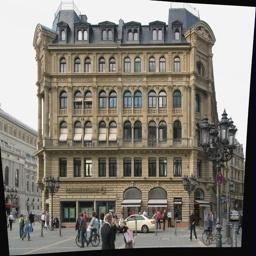building: (33, 0, 214, 230)
